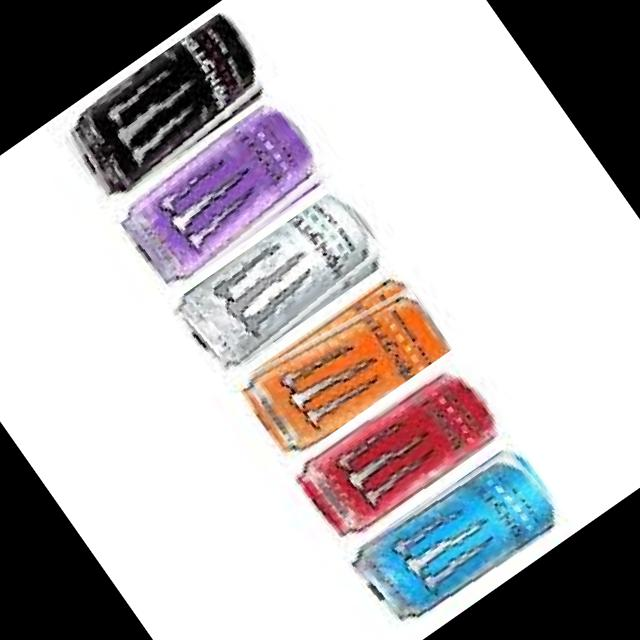Cans: (104, 88, 346, 302), (49, 8, 282, 212), (286, 343, 518, 546), (340, 434, 570, 638), (164, 184, 393, 384), (226, 266, 452, 466)
